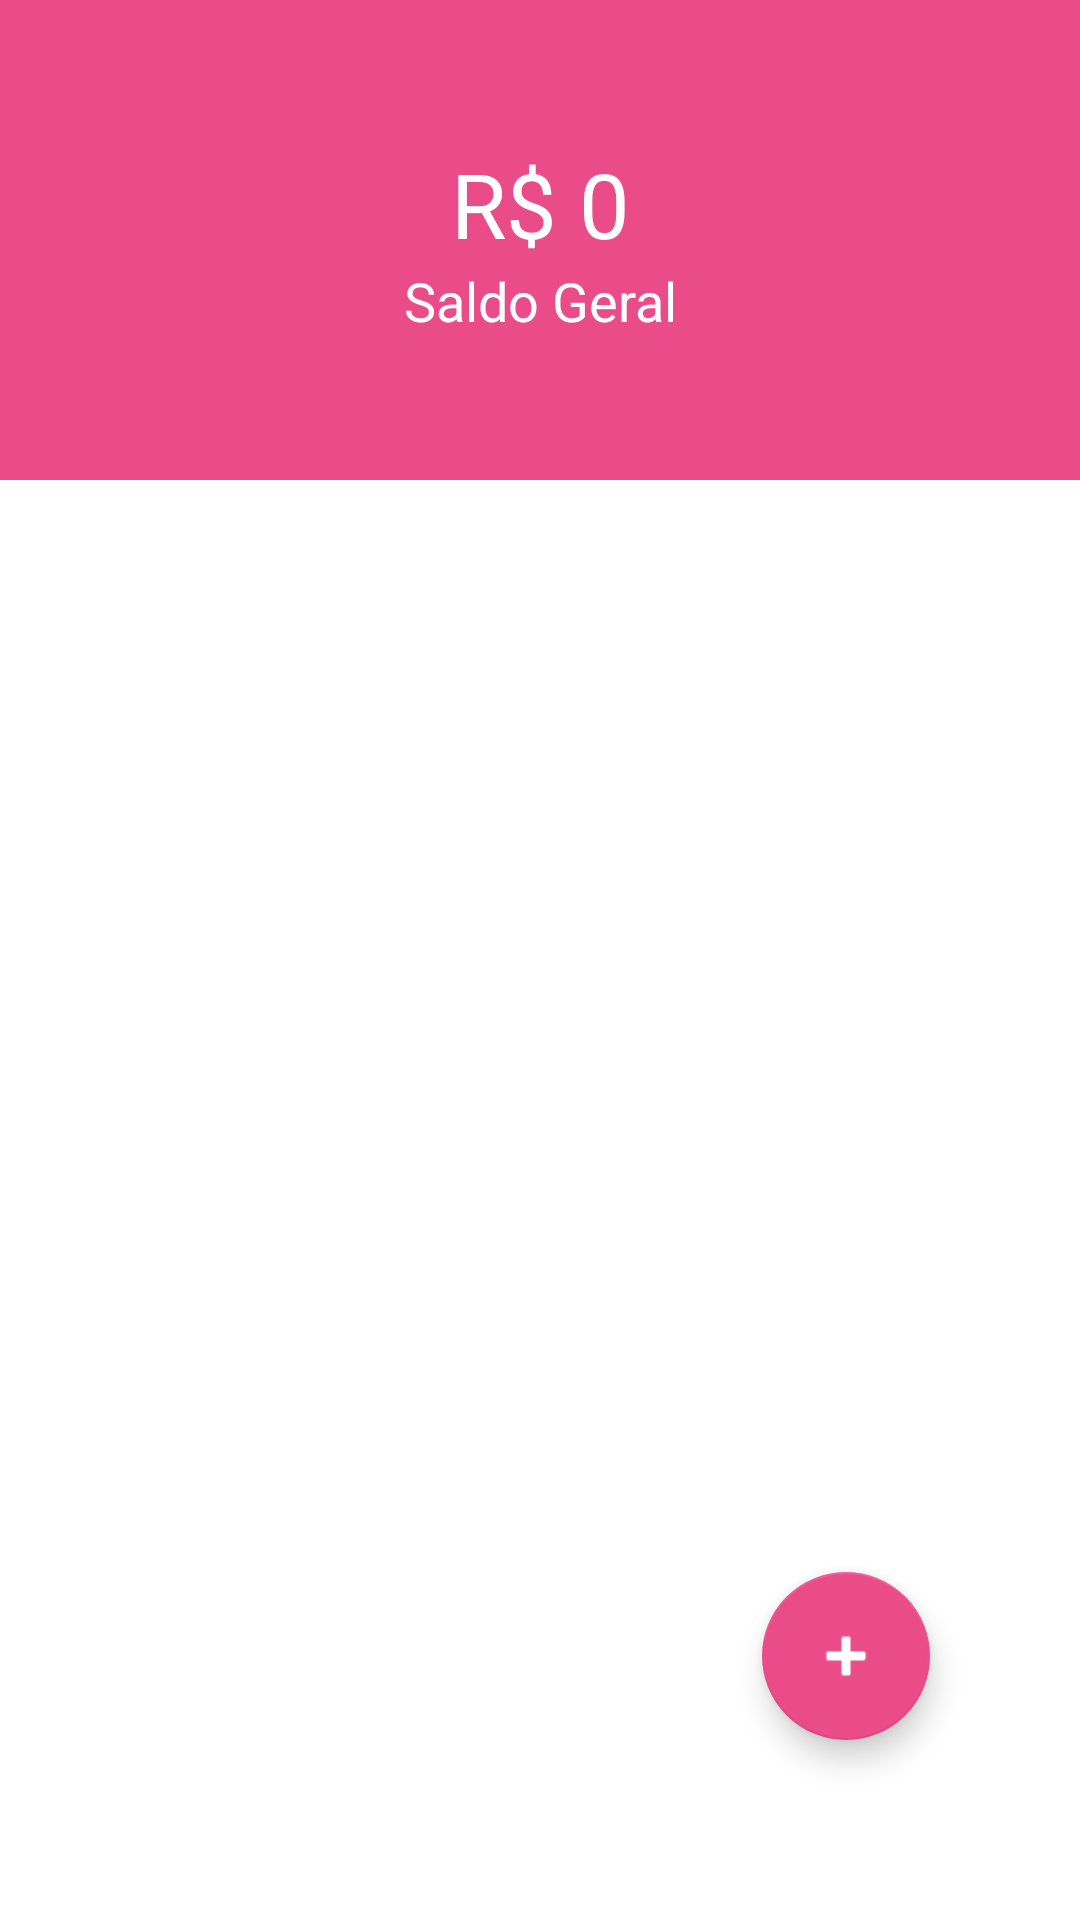

Icon click points for this 1080x1920 phone screenshot, format (x,y):
add: (846,1656)
